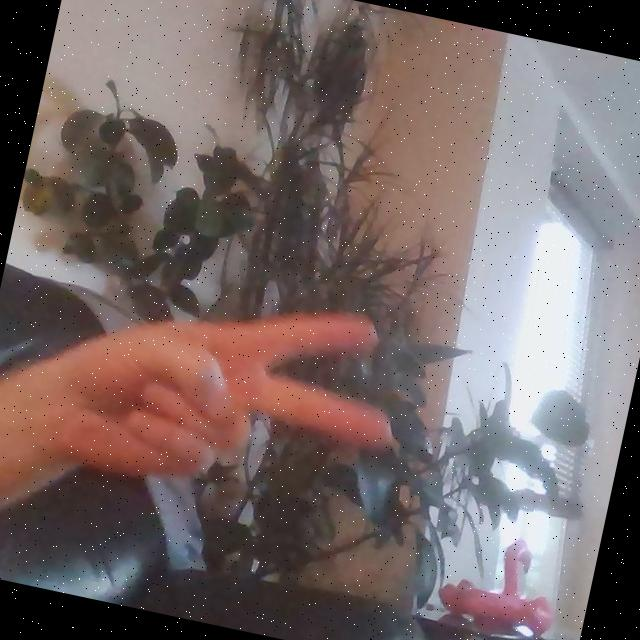scissors: (58, 257, 421, 541)
